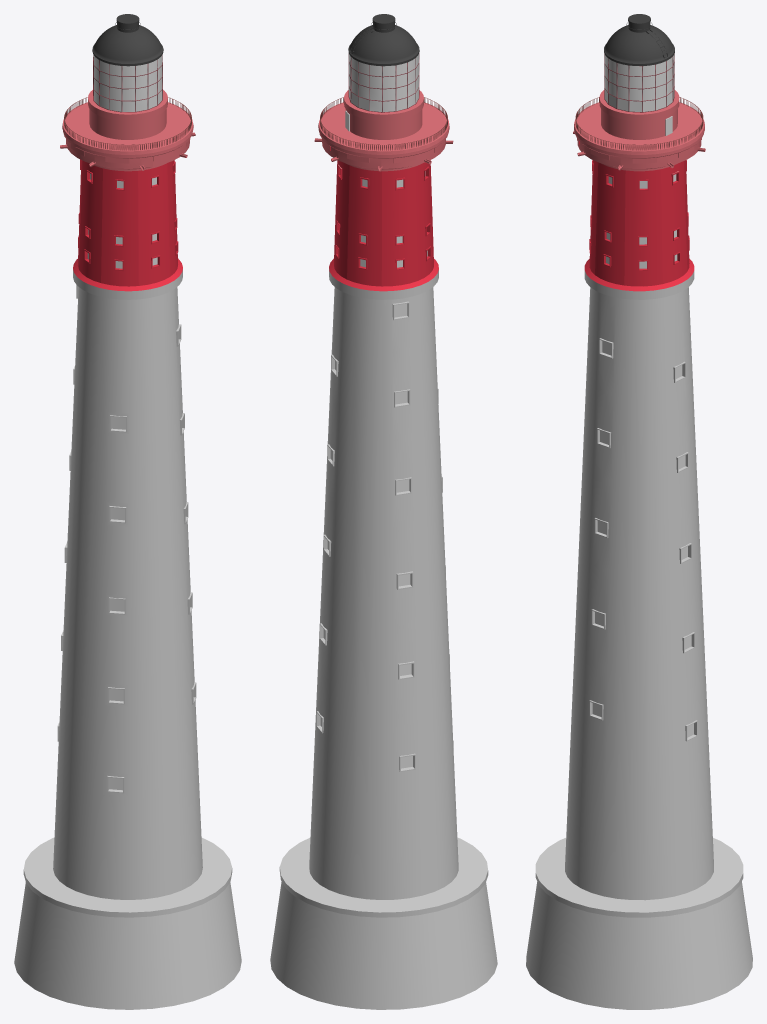
The model's file is LightHouse.fbx.
3 renders of one model, left to right at view 1: azimuth 30°, elevation 25°; view 2: azimuth 150°, elevation 25°; view 3: azimuth 270°, elevation 25°, orthographic.
Visible parts, largest first — view 1: Lighthouse; view 2: Lighthouse; view 3: Lighthouse.
Boxes of the visible parts, x1=… form: Lighthouse: x1=14, y1=14, x2=241, y2=1009; Lighthouse: x1=270, y1=14, x2=497, y2=1009; Lighthouse: x1=526, y1=14, x2=752, y2=1009.
Bounding box in the file's own units: 1021 × 4682 × 1021.
